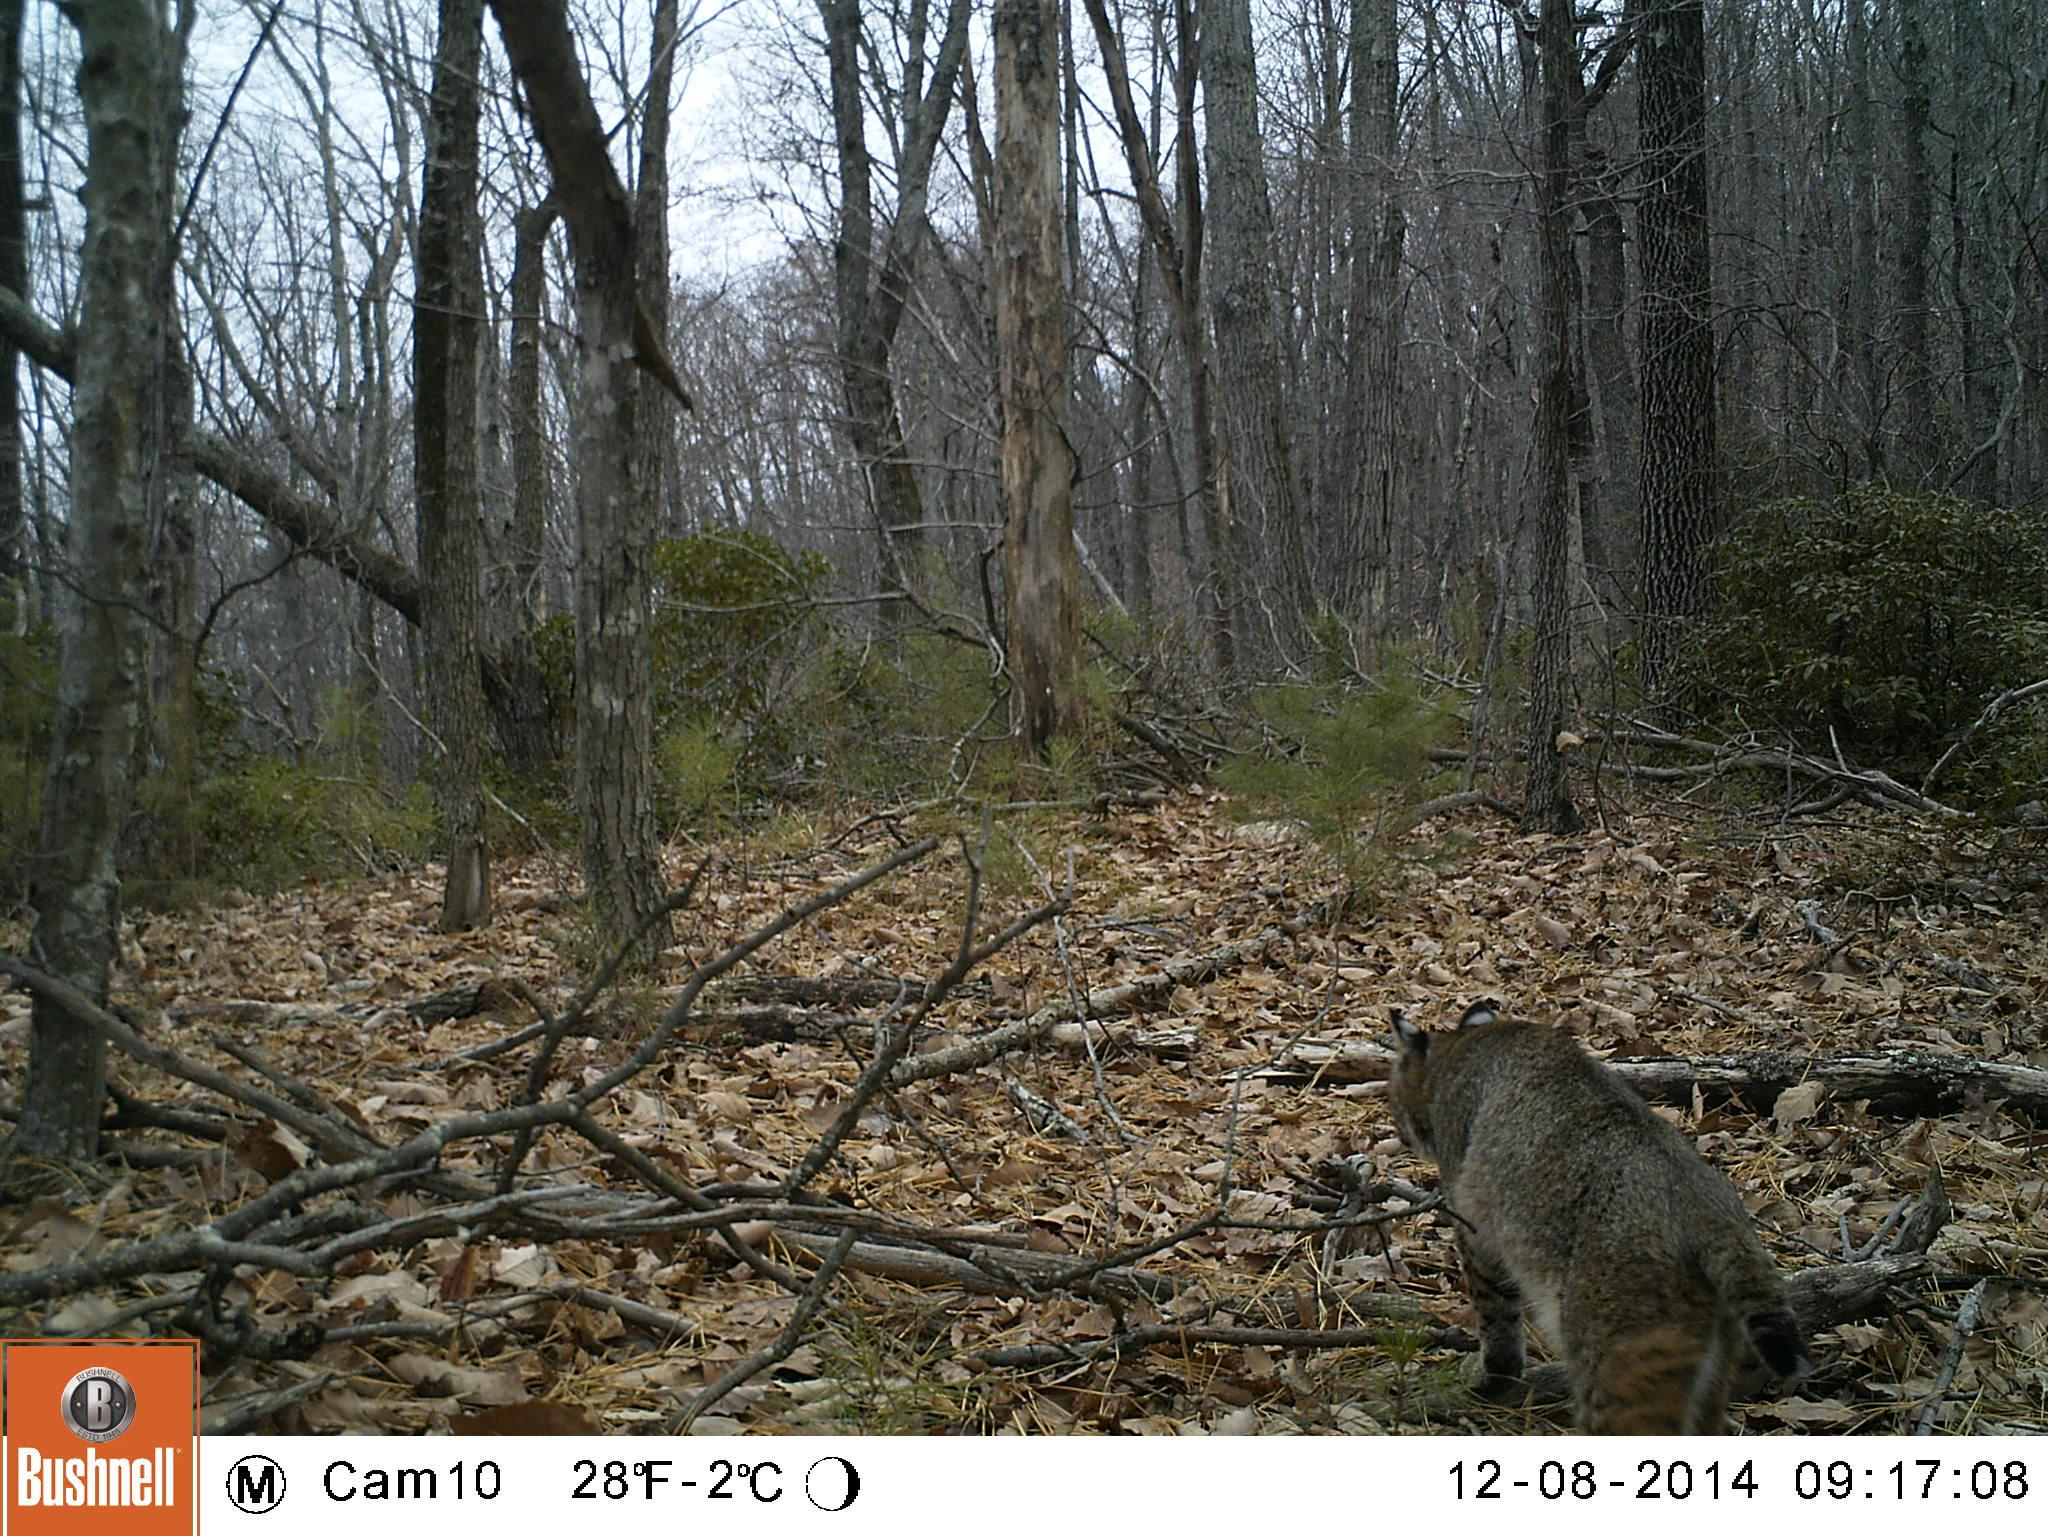Animal: (1380, 1000, 1796, 1438)
